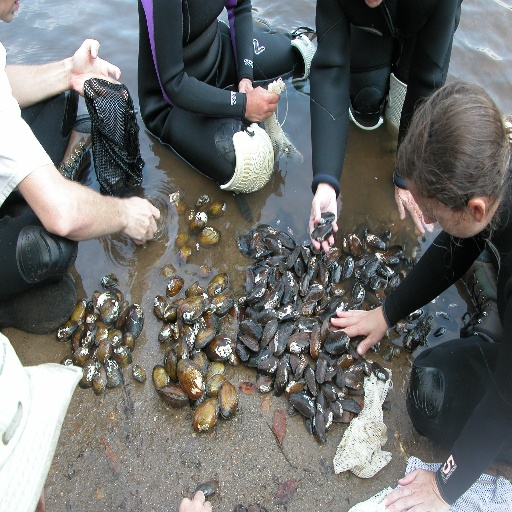hand: (68, 37, 128, 103), (338, 303, 397, 358), (383, 465, 450, 511), (307, 182, 338, 254), (394, 183, 434, 237), (125, 194, 160, 247), (245, 84, 279, 124), (179, 491, 213, 511)
